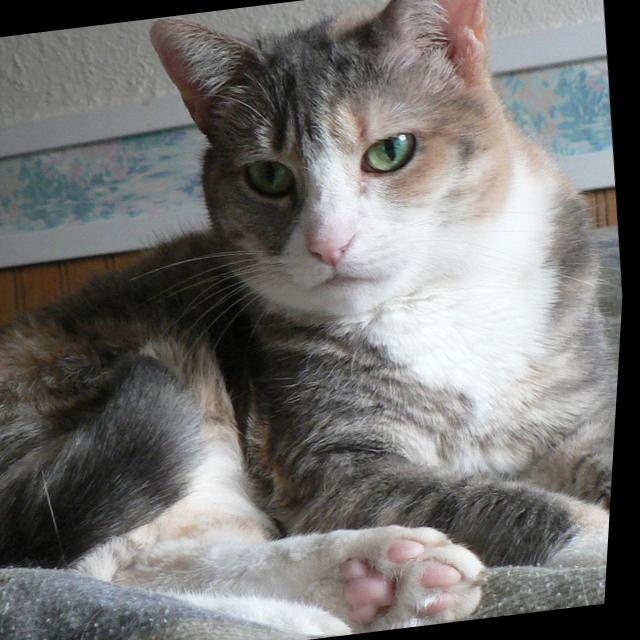animals: (143, 0, 509, 282)
